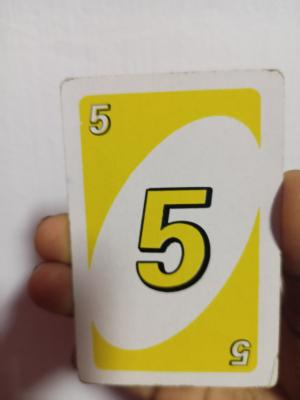num_5: (128, 184, 232, 313)
yellow: (83, 96, 140, 176), (158, 330, 261, 374)
